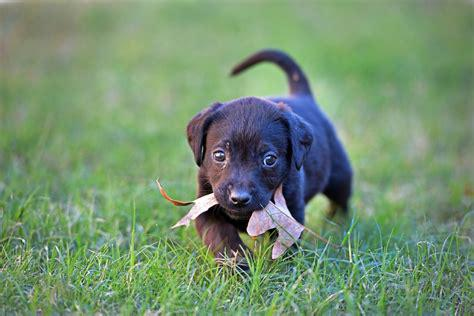dog: (186, 49, 352, 269)
